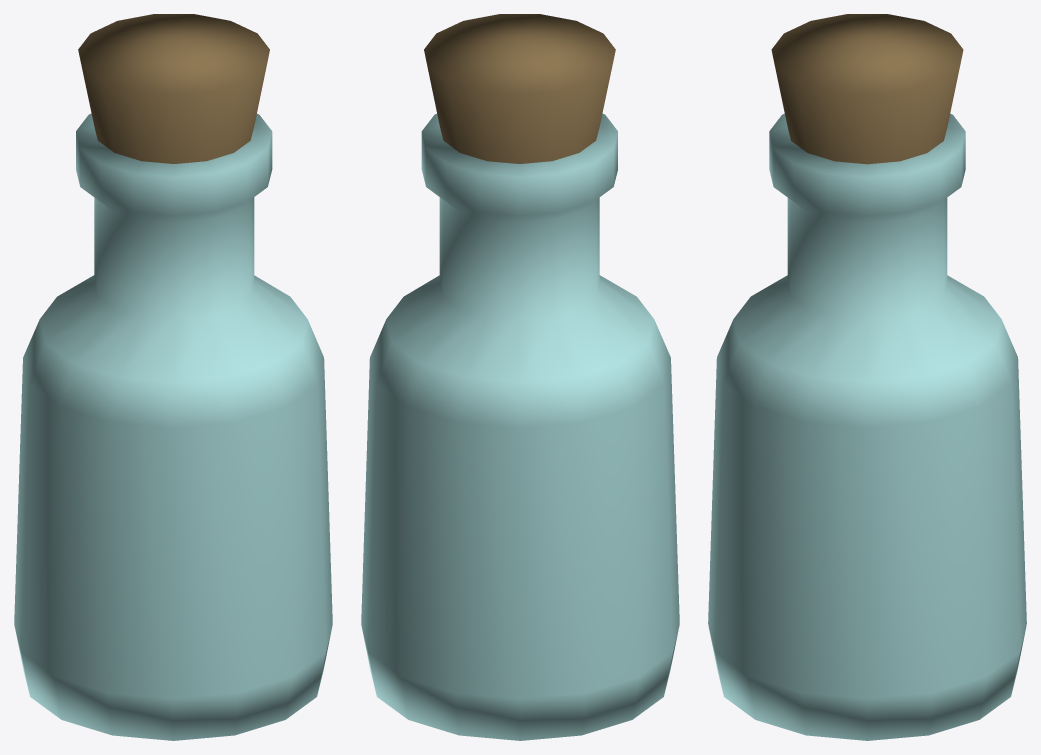
The model's file is Fiole_5.fbx.
3 renders of one model, left to right at view 1: azimuth 30°, elevation 25°; view 2: azimuth 150°, elevation 25°; view 3: azimuth 270°, elevation 25°, orthographic.
Visible parts, largest first — view 1: pCylinder1; view 2: pCylinder1; view 3: pCylinder1.
Part boxes in pixels (left/top/right/bottom): pCylinder1: left=14, top=14, right=332, bottom=740; pCylinder1: left=361, top=14, right=679, bottom=740; pCylinder1: left=708, top=14, right=1026, bottom=740.
Size of the model in its own units: 2.1 by 4.65 by 2.11.
